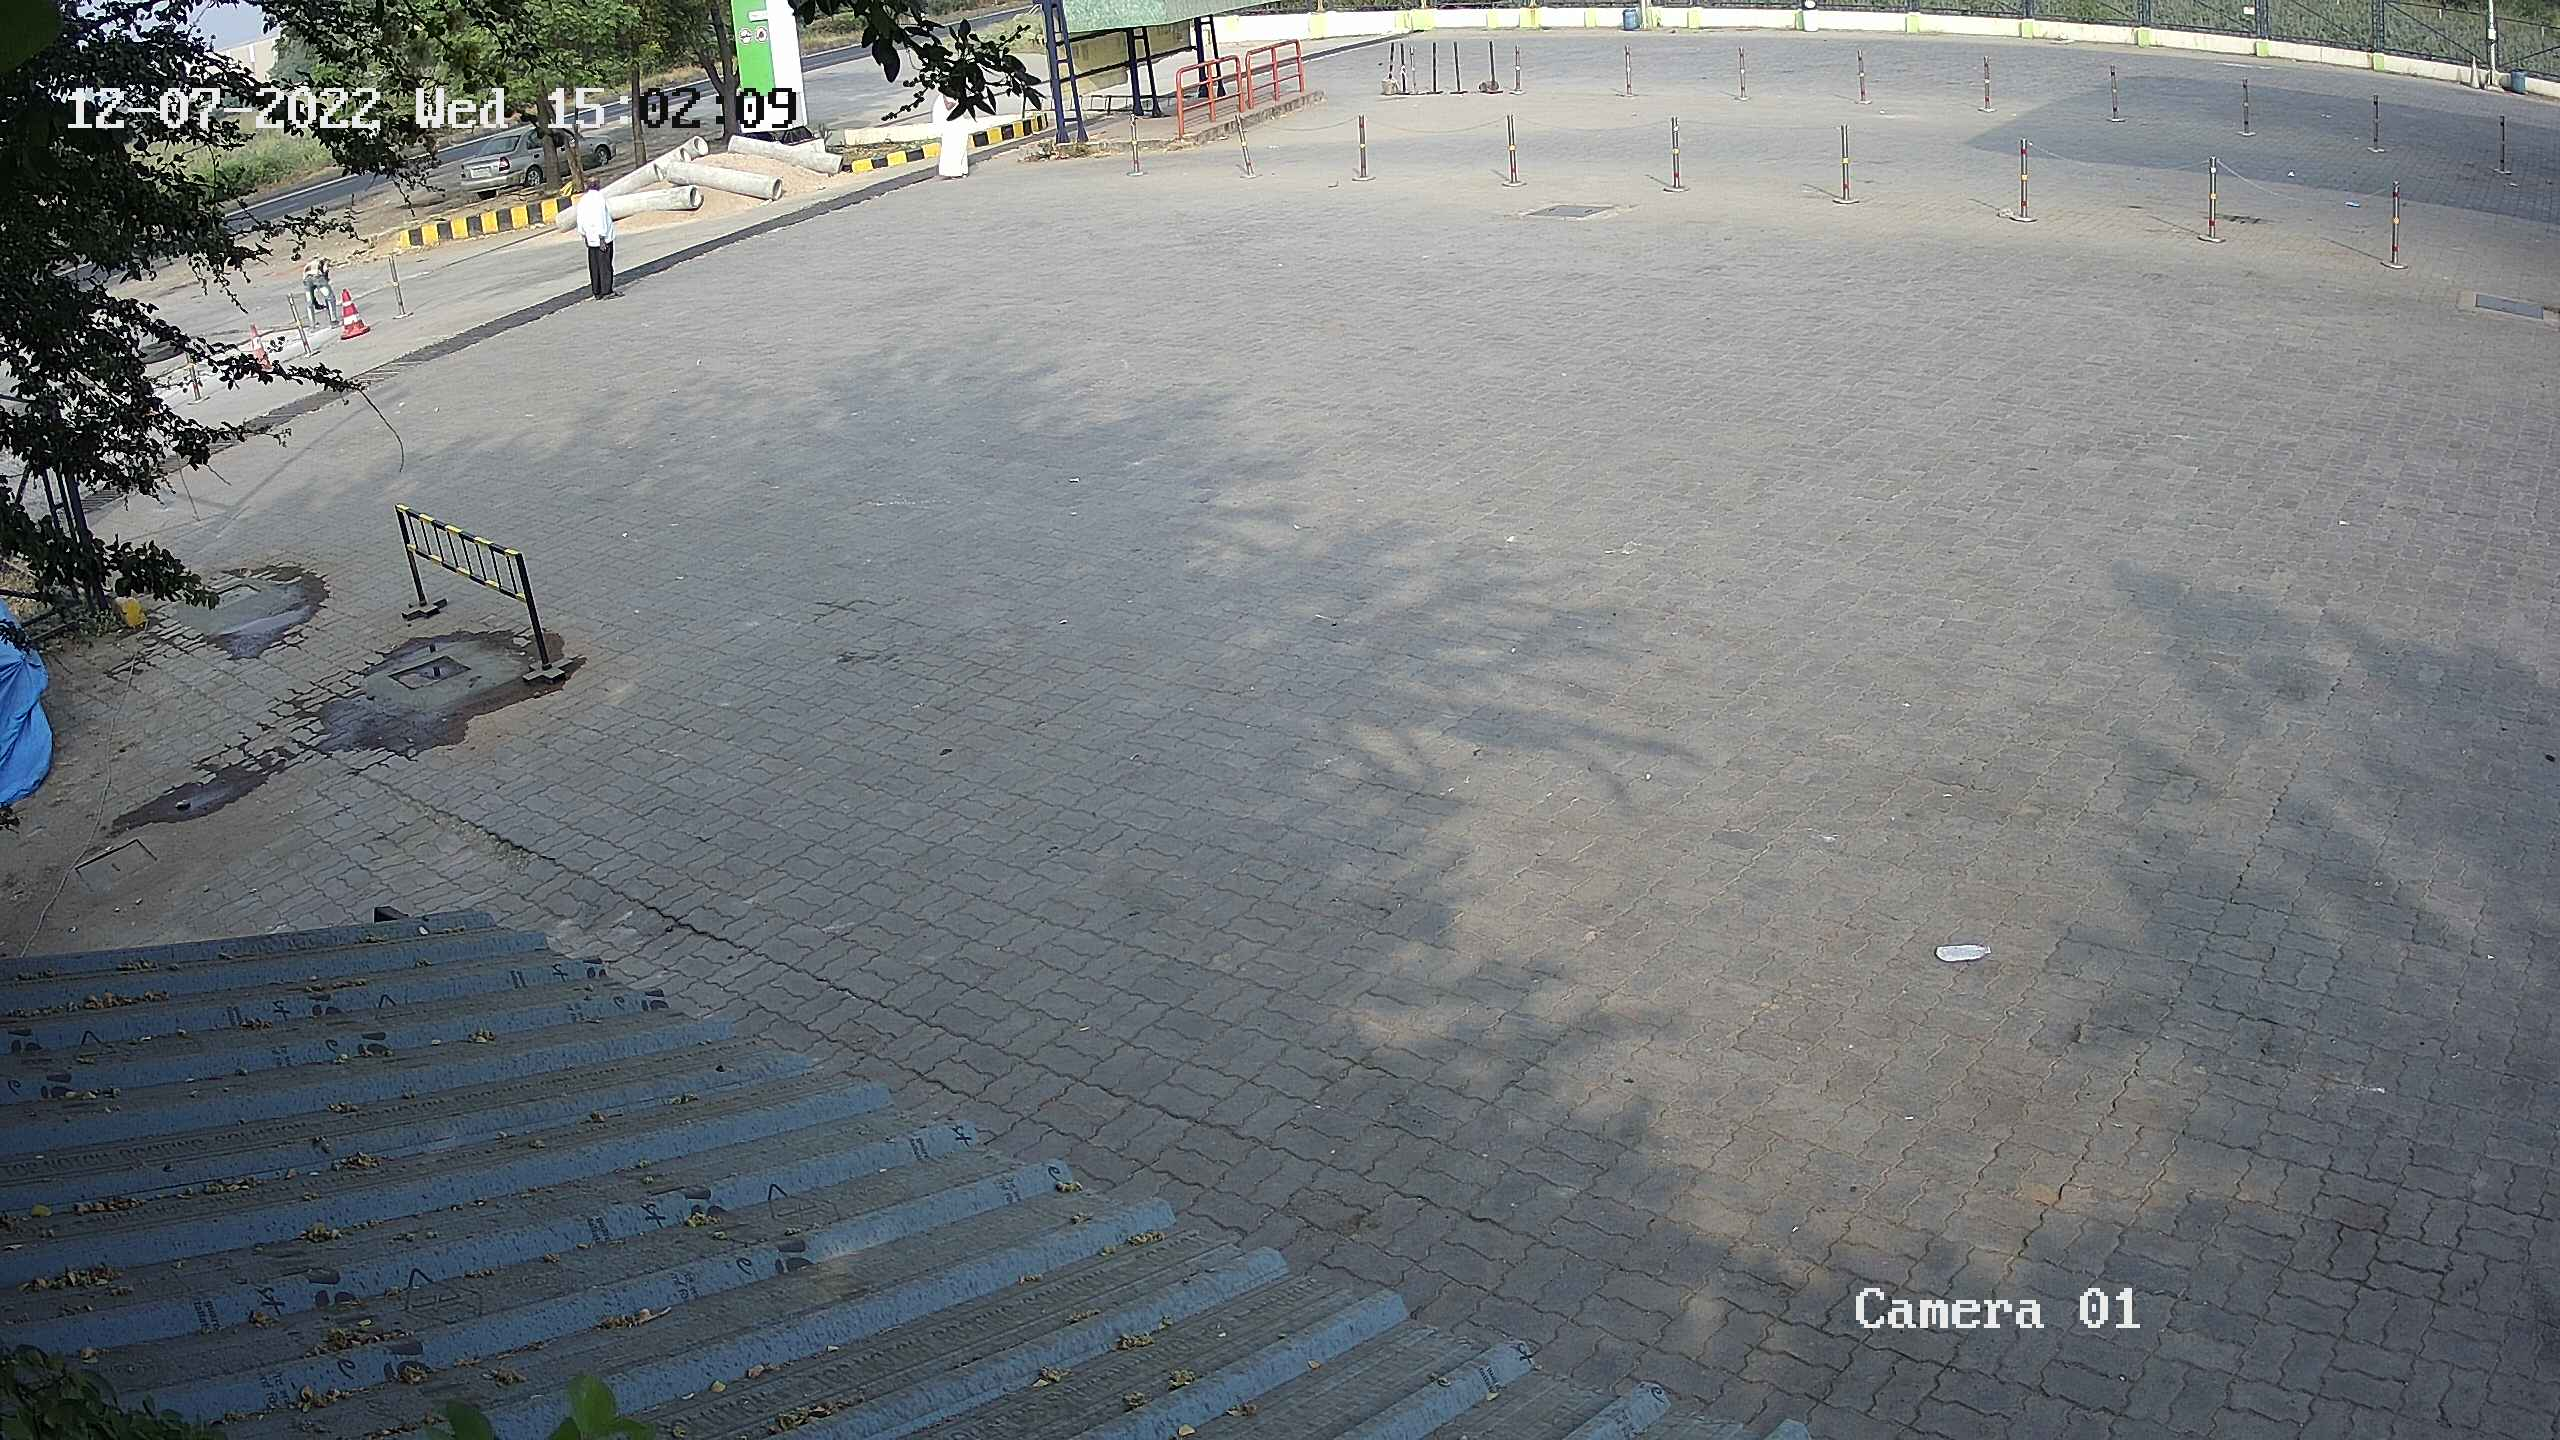Car: (447, 97, 635, 222)
